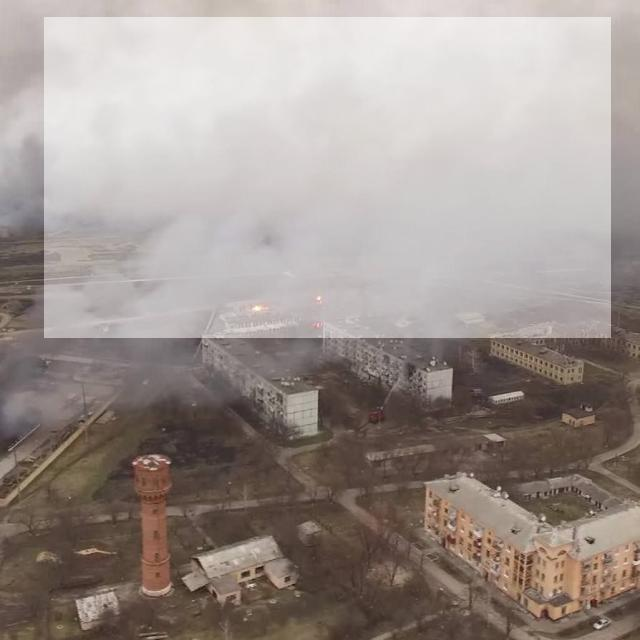Smoke: (44, 17, 611, 338)
